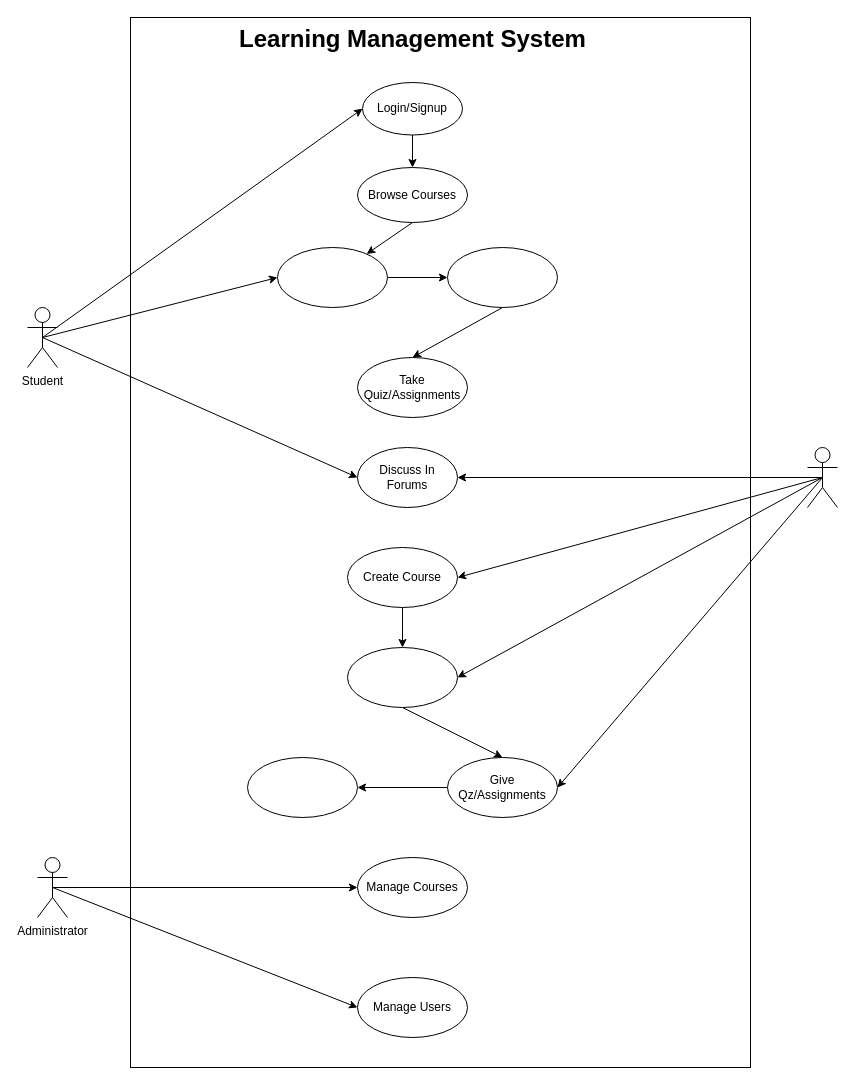
The diagram is 865 pixels wide and 1085 high, and some of its shapes have lost their labels. The shapes that lost their labels are listed below. From the top down, each one's centre as x and y in pixels, then its label:
point 332,277: Enroll in Course
point 502,277: View Course Material
point 822,477: Instructor
point 402,677: Add/Update Course Material
point 302,787: Grade Assignments
